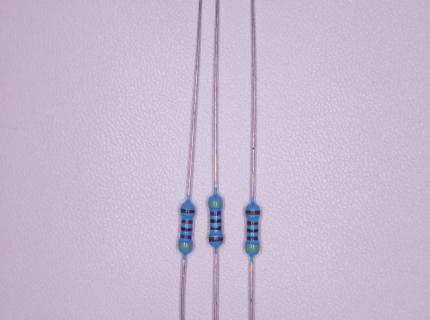Black band: (181, 227, 192, 231), (210, 219, 221, 223), (247, 229, 258, 233)
Brown band: (245, 210, 261, 215), (180, 209, 195, 213), (209, 237, 224, 241), (181, 219, 192, 224), (210, 226, 221, 230), (247, 221, 258, 225)
Violet band: (180, 234, 192, 240), (210, 211, 221, 216), (247, 236, 258, 240)
Yellow band: (178, 245, 193, 249), (208, 202, 223, 206), (245, 247, 260, 250)
